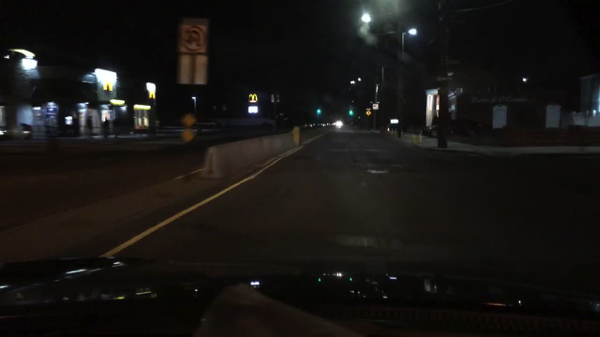car: (418, 115, 488, 138), (0, 120, 34, 141), (334, 119, 344, 128), (305, 119, 313, 129), (318, 121, 327, 128), (328, 118, 335, 127)
person: (102, 116, 110, 139)
traffic light: (315, 108, 324, 117), (348, 107, 355, 117)
traffic sign: (177, 16, 208, 53), (178, 54, 208, 85), (181, 112, 197, 127), (180, 129, 196, 141), (436, 74, 452, 82), (247, 105, 258, 113), (389, 118, 400, 124), (371, 103, 380, 110), (365, 110, 371, 116)
